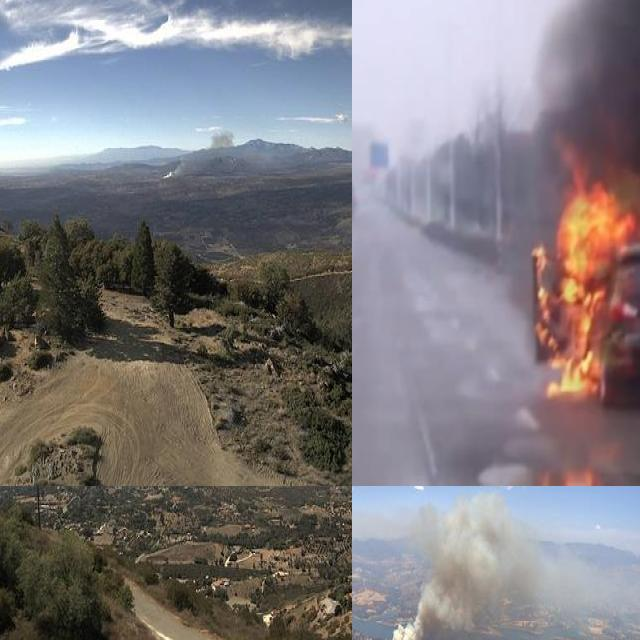fire: (532, 157, 640, 401)
smoke: (514, 0, 640, 295), (374, 490, 604, 640), (156, 124, 237, 183)
